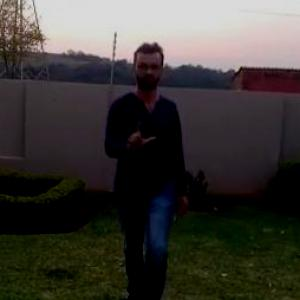land_hand: (118, 115, 161, 153)
